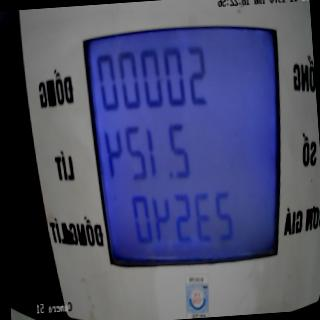screen: (76, 1, 296, 280)
